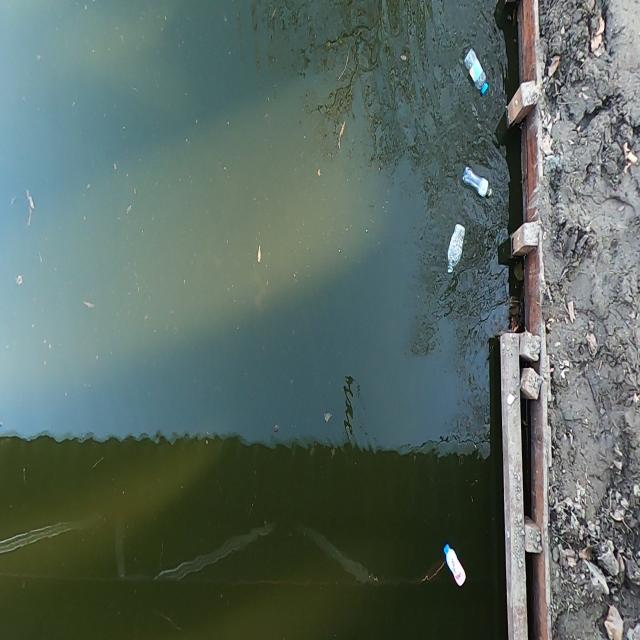Bouteille plastique: (463, 166, 493, 199), (444, 544, 467, 586), (466, 49, 487, 93), (448, 225, 464, 272)
